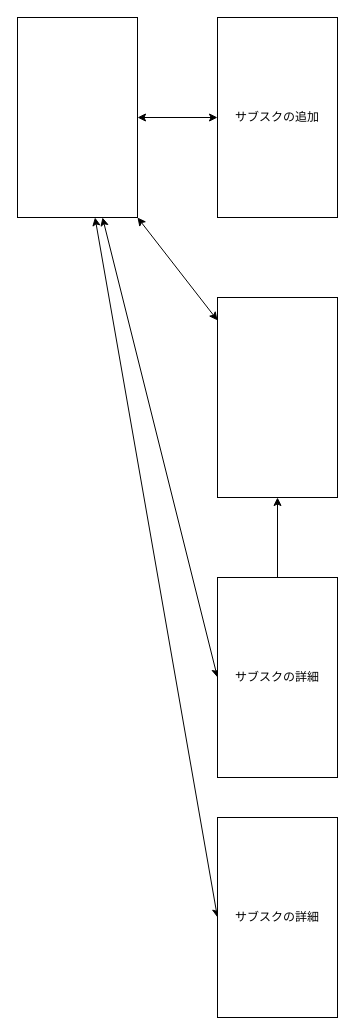
Some shapes in this 355 by 1035 pixel diagram are drawn without their labels. The shapes that lost their labels are listed below. From the top down, each one's centre as x and y in pixels, then its label:
At point 77,117: "ホーム画面".
At point 277,397: "サブスクの編集".
